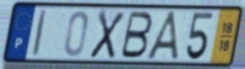0: (63, 9, 90, 58)
5: (184, 11, 215, 62)
A: (144, 9, 182, 62)
B: (118, 10, 154, 60)
I: (30, 8, 49, 59)
X: (88, 9, 127, 61)
